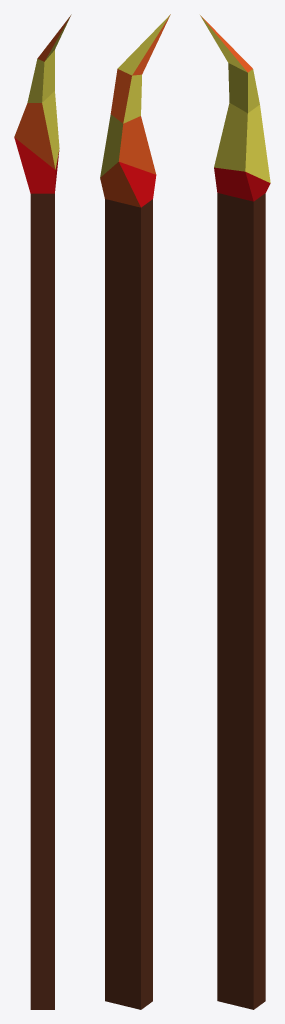
Rendered from torch 1.fbx.
3 views of the same model, side by side, from view 1: azimuth 90°, elevation 25°; view 2: azimuth 150°, elevation 25°; view 3: azimuth 330°, elevation 25° (orthographic).
Visible parts, largest first — view 1: Cube; view 2: Cube; view 3: Cube.
Part boxes in pixels (x1=…): Cube: x1=14, y1=14, x2=71, y2=1009; Cube: x1=100, y1=14, x2=170, y2=1009; Cube: x1=200, y1=15, x2=270, y2=1009.
Bounding box in the file's own units: 13.22 × 225 × 11.72.
